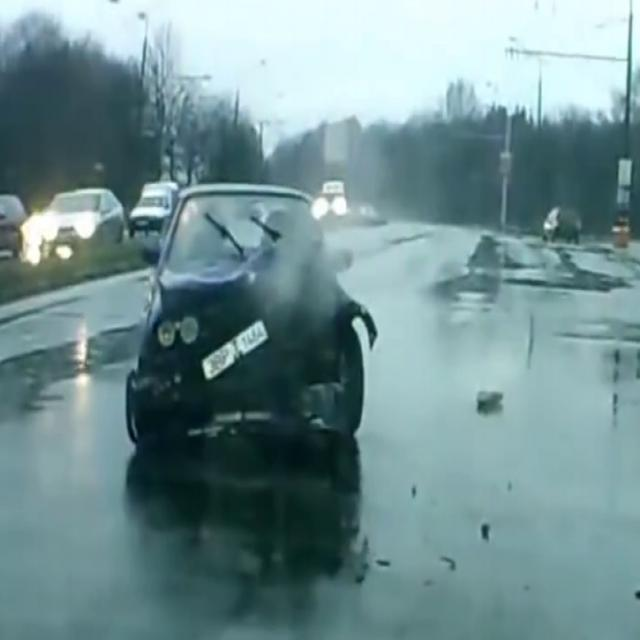accident: (137, 162, 382, 466)
